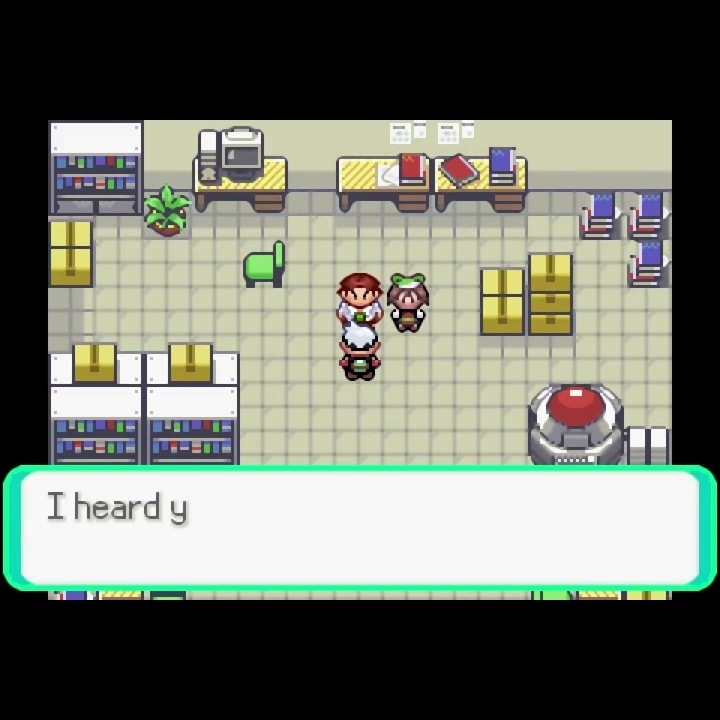npc: (385, 270, 432, 337), (333, 272, 387, 329), (338, 319, 382, 384)
